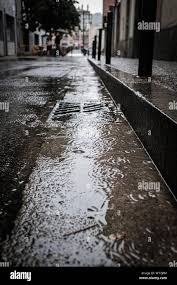Wet-floor: (2, 43, 177, 269)
